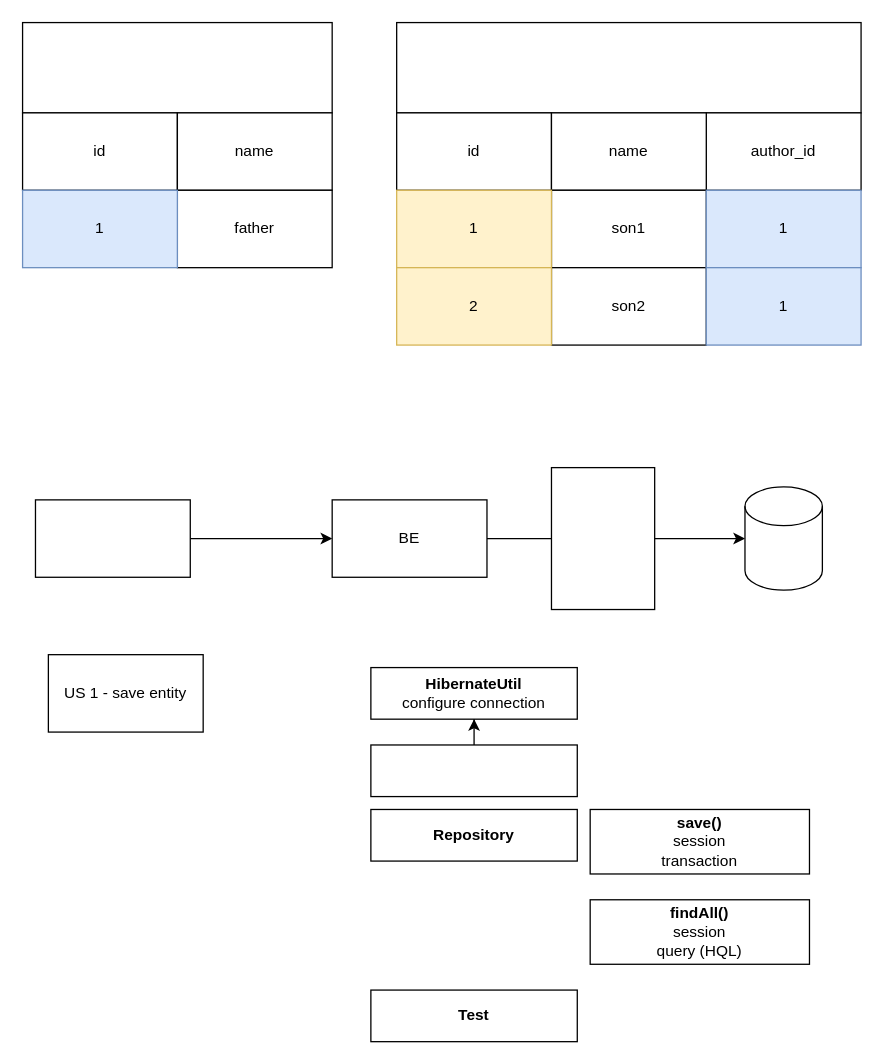
The diagram is 884 pixels wide and 1064 high, and some of its shapes have lost their labels. Each missing label, with the centre of its shape:
Author: (176,67)
Book: (628,67)
Entity: (473,770)
FE: (112,538)
Hibernate: (602,538)
